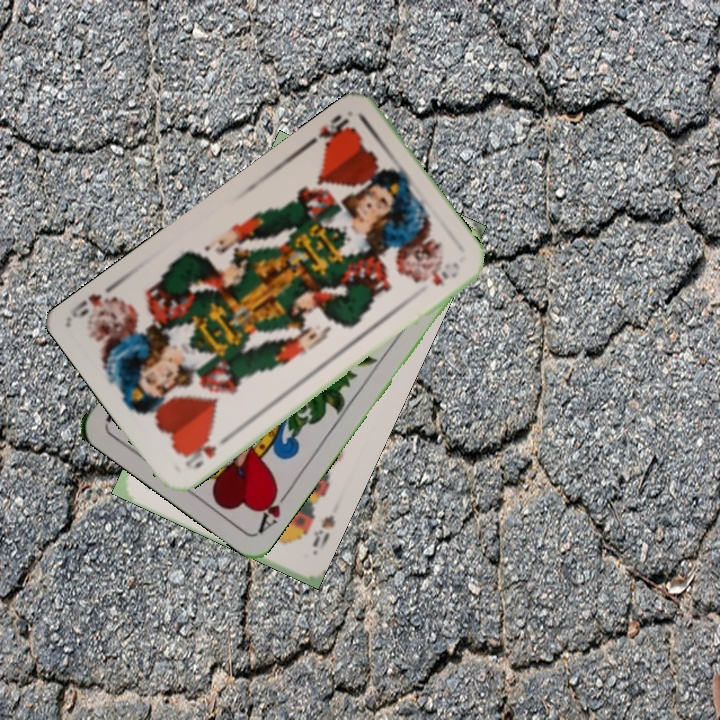HA: (253, 480, 294, 536)
HO: (302, 110, 357, 152), (180, 432, 232, 471)
S8: (308, 511, 338, 550)
